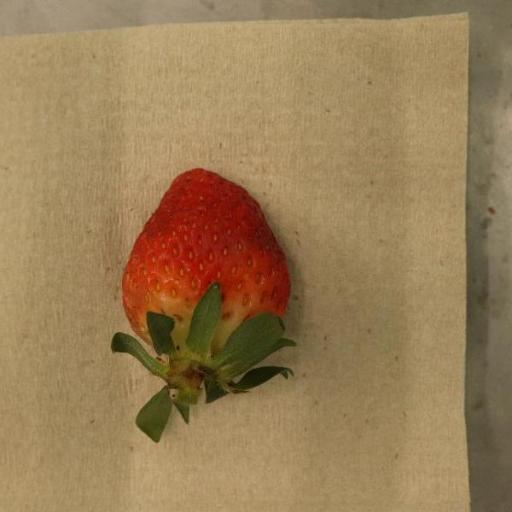Strawberry: (111, 168, 296, 445)
